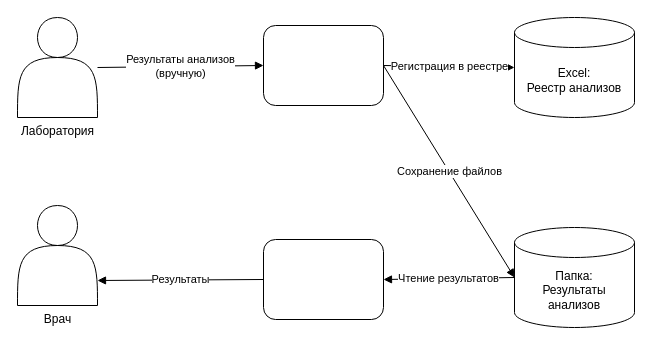
This 652x345 diagram has some shape labels left out. The box of each missing label's shape, as (x1, y1, x2, y2) in pixels:
Получение результатов: (262, 24, 384, 106)
Хранение результатов: (262, 238, 384, 320)
